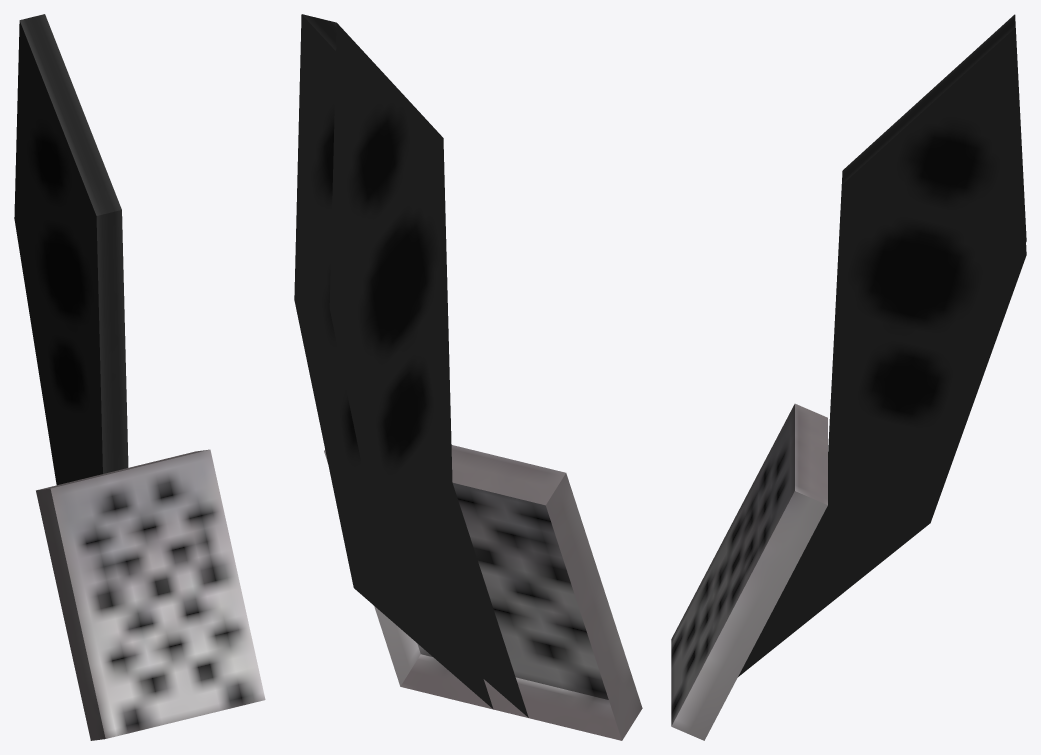
The model's file is polaris_pedal_gas.dae.
3 renders of one model, left to right at view 1: azimuth 30°, elevation 25°; view 2: azimuth 150°, elevation 25°; view 3: azimuth 270°, elevation 25°, orthographic. The views are drawn at different scales.
Parts seen in each view (by area): view 1: Pedal_Gas; view 2: Pedal_Gas; view 3: Pedal_Gas.
Part boxes in pixels (x1,y1,x2,y2): Pedal_Gas: [14, 14, 265, 740]; Pedal_Gas: [294, 14, 642, 740]; Pedal_Gas: [671, 14, 1026, 740].
Size of the model in its own units: 3.02 by 5.18 by 10.89.
1 material, 1 textured.
